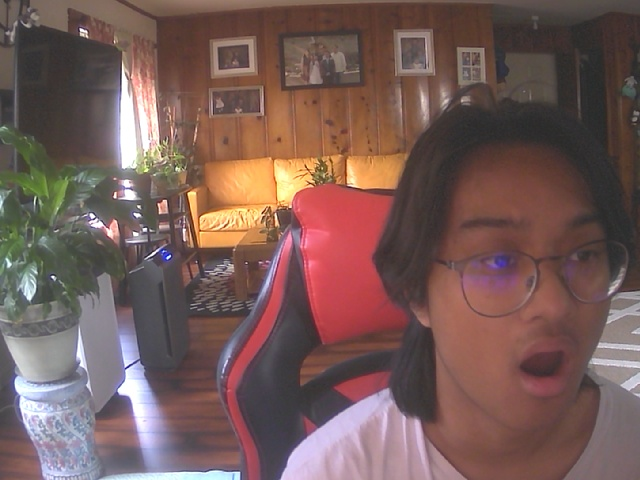fear: (393, 111, 638, 439)
